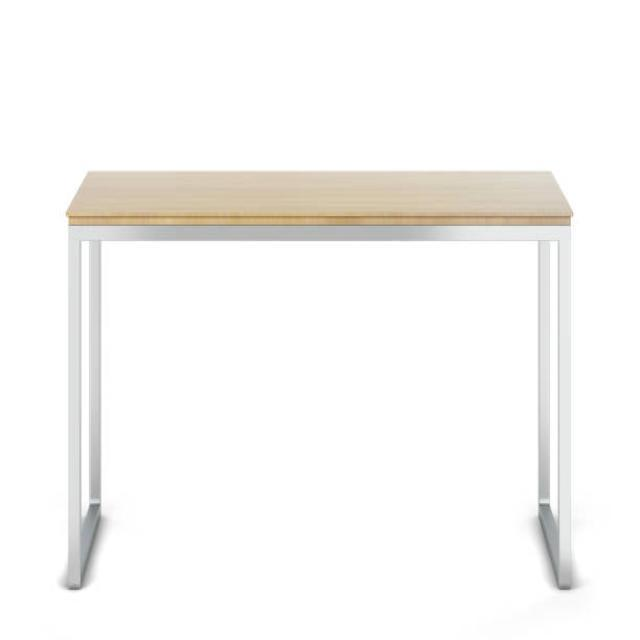table: (64, 168, 576, 592)
